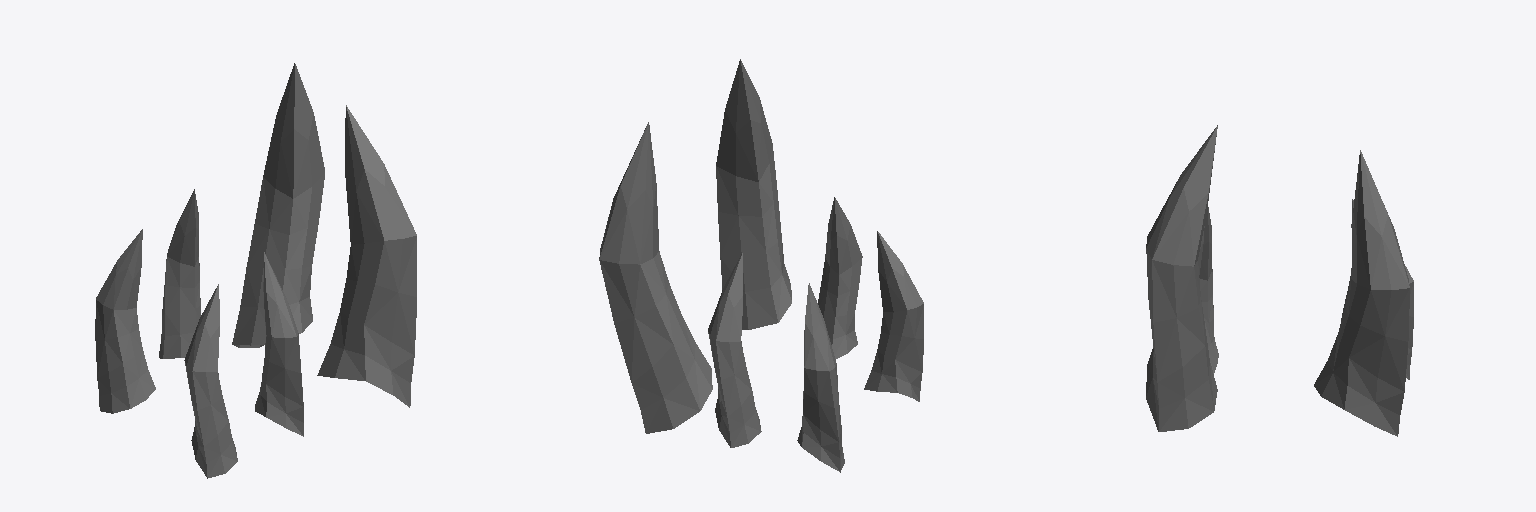
The model's file is Spikes_VeryBig.obj.
The picture shows the model from 3 angles: view 1: azimuth 30°, elevation 25°; view 2: azimuth 150°, elevation 25°; view 3: azimuth 270°, elevation 25°; orthographic projection.
Parts seen in each view (by area): view 1: Spike_VeryBig1, Spike_VeryBig2, Spike_VeryBig5, Spike_VeryBig6, Spike_VeryBig3, Spike_VeryBig4; view 2: Spike_VeryBig2, Spike_VeryBig1, Spike_VeryBig6, Spike_VeryBig4, Spike_VeryBig5, Spike_VeryBig3; view 3: Spike_VeryBig2, Spike_VeryBig1, Spike_VeryBig6.
Boxes of the visible parts, x1=… form: Spike_VeryBig1: x1=317, y1=105, x2=416, y2=407; Spike_VeryBig2: x1=232, y1=63, x2=324, y2=347; Spike_VeryBig5: x1=95, y1=229, x2=155, y2=413; Spike_VeryBig6: x1=184, y1=284, x2=237, y2=478; Spike_VeryBig3: x1=255, y1=252, x2=303, y2=436; Spike_VeryBig4: x1=159, y1=189, x2=200, y2=358; Spike_VeryBig2: x1=599, y1=122, x2=712, y2=433; Spike_VeryBig1: x1=716, y1=59, x2=791, y2=329; Spike_VeryBig6: x1=864, y1=231, x2=923, y2=401; Spike_VeryBig4: x1=708, y1=253, x2=761, y2=447; Spike_VeryBig5: x1=797, y1=283, x2=844, y2=472; Spike_VeryBig3: x1=818, y1=197, x2=862, y2=358; Spike_VeryBig2: x1=1314, y1=150, x2=1409, y2=436; Spike_VeryBig1: x1=1146, y1=125, x2=1217, y2=431; Spike_VeryBig6: x1=1199, y1=207, x2=1218, y2=357.
Size of the model in its own units: 258 by 344 by 261.